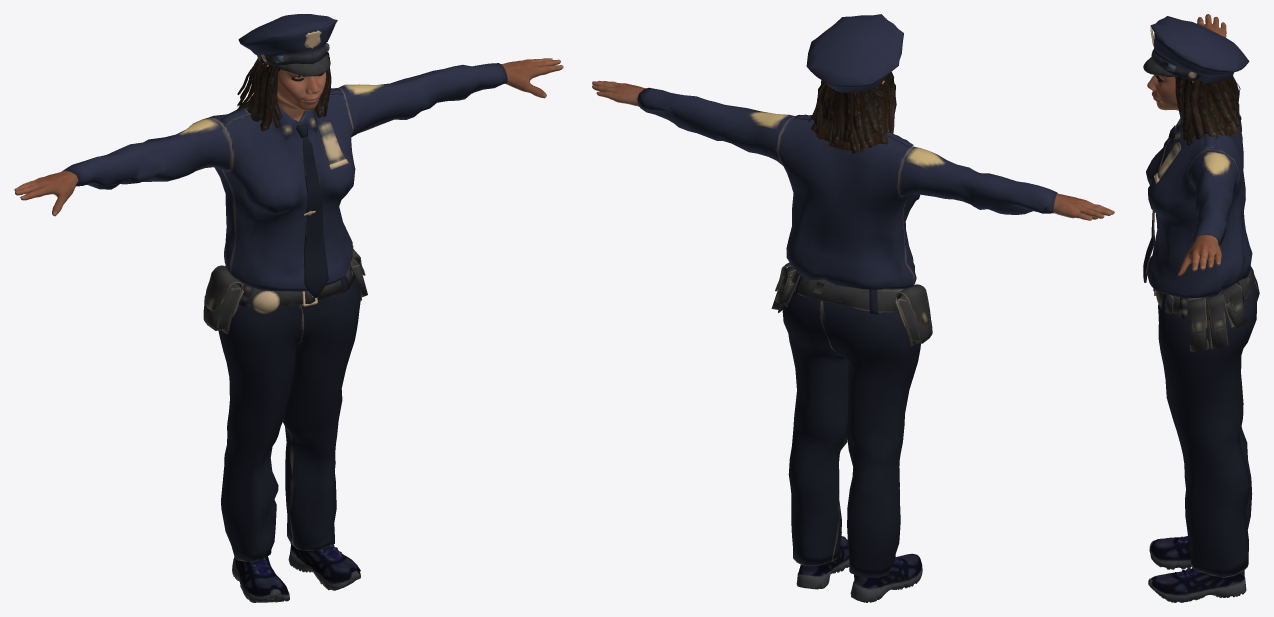
The picture shows the model from 3 angles, left to right: view 1: azimuth 30°, elevation 25°; view 2: azimuth 150°, elevation 25°; view 3: azimuth 270°, elevation 25°; orthographic projection. The views are drawn at different scales.
Visible parts, largest first — view 1: Tops, Bottoms, Body, Hats, Shoes, Hair; view 2: Bottoms, Tops, Hats, Hair, Shoes, Body; view 3: Bottoms, Tops, Hats, Shoes, Hair, Body.
Boxes of the visible parts, bbox=[...] form: Tops: bbox=[61, 63, 507, 297]; Bottoms: bbox=[203, 245, 367, 561]; Body: bbox=[14, 58, 563, 284]; Hats: bbox=[238, 14, 337, 76]; Shoes: bbox=[232, 543, 360, 602]; Hair: bbox=[236, 52, 331, 131]; Bottoms: bbox=[771, 262, 932, 577]; Tops: bbox=[637, 87, 1057, 289]; Hats: bbox=[806, 14, 903, 92]; Hair: bbox=[808, 72, 896, 153]; Shoes: bbox=[796, 536, 922, 602]; Body: bbox=[592, 80, 1114, 220]; Bottoms: bbox=[1153, 266, 1259, 577]; Tops: bbox=[1143, 104, 1252, 298]; Hats: bbox=[1143, 16, 1249, 83]; Shoes: bbox=[1148, 536, 1246, 602]; Hair: bbox=[1175, 76, 1241, 145]; Body: bbox=[1147, 14, 1226, 275].
Size of the model in its own units: 169 by 171 by 32.57.
1 material, 1 textured.
